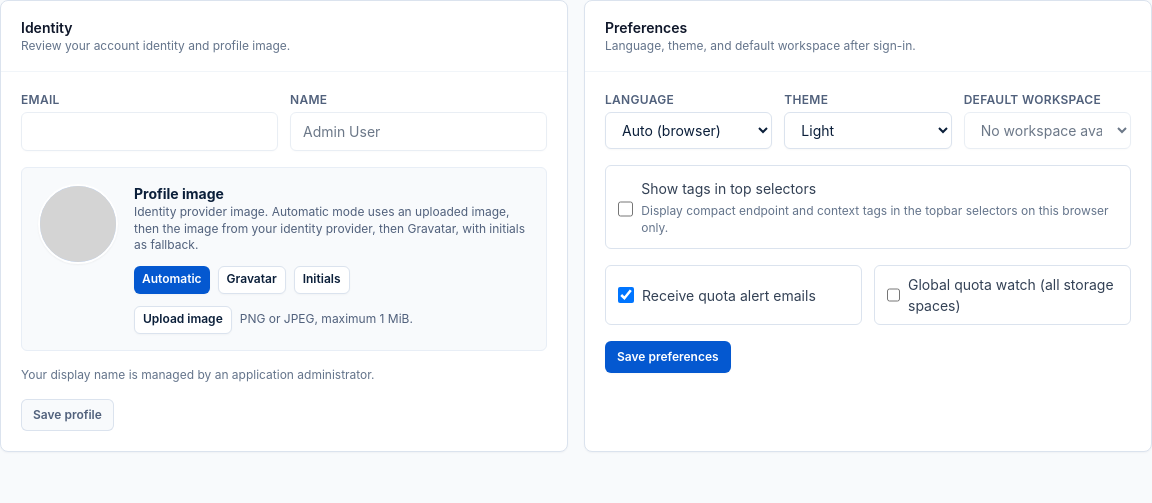
Test: ProfilePage live validation › selects an avatar source and explains identity-provider fallback
Expected: the text "Identity provider image." is shown, [134,204,530,254]
Step 1. Click the button "Initials" → x=322, y=280, box [294,266,350,294]
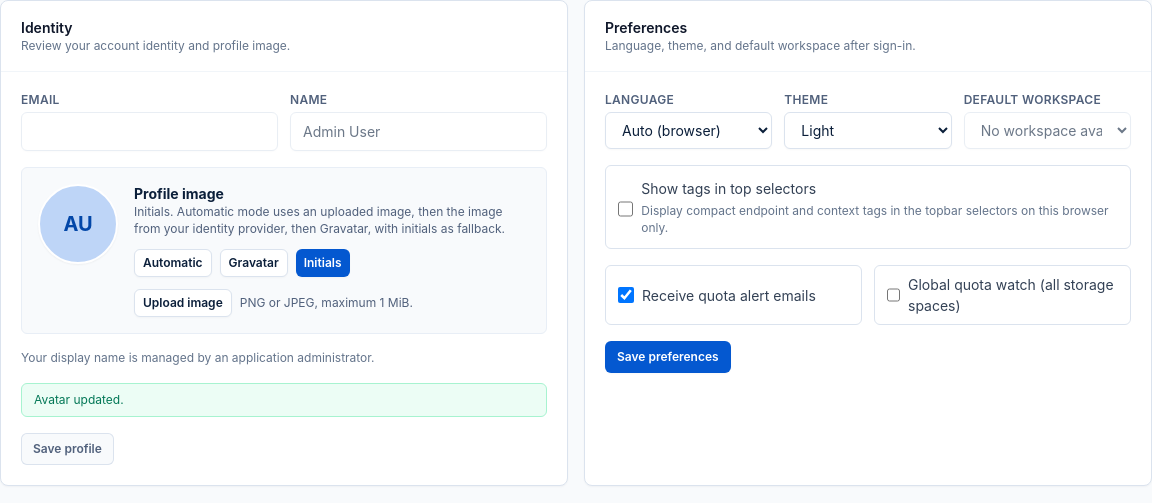
Result: the text "Avatar updated." is shown at [21,382,547,417]
